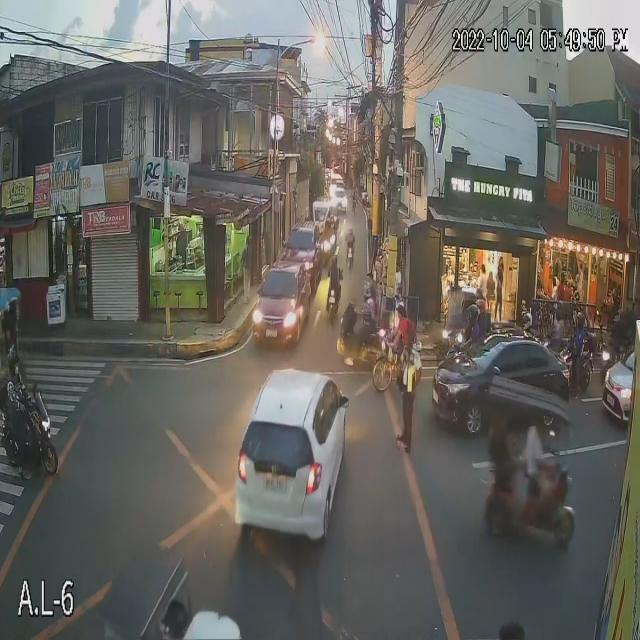helmet: (4, 344, 21, 380), (361, 285, 377, 306), (475, 294, 488, 316), (466, 304, 477, 324), (574, 312, 585, 328), (522, 313, 533, 328), (329, 253, 340, 266), (345, 224, 356, 236)
motorcycle: (483, 463, 576, 545), (0, 393, 64, 480), (337, 307, 382, 374), (553, 345, 607, 391), (317, 283, 348, 318), (343, 242, 357, 278)
rider: (484, 406, 520, 495), (519, 405, 557, 488), (4, 341, 34, 435), (565, 308, 593, 371), (360, 281, 380, 331), (466, 294, 479, 350), (326, 251, 344, 291), (478, 293, 489, 346), (343, 220, 360, 254), (521, 310, 536, 347)
